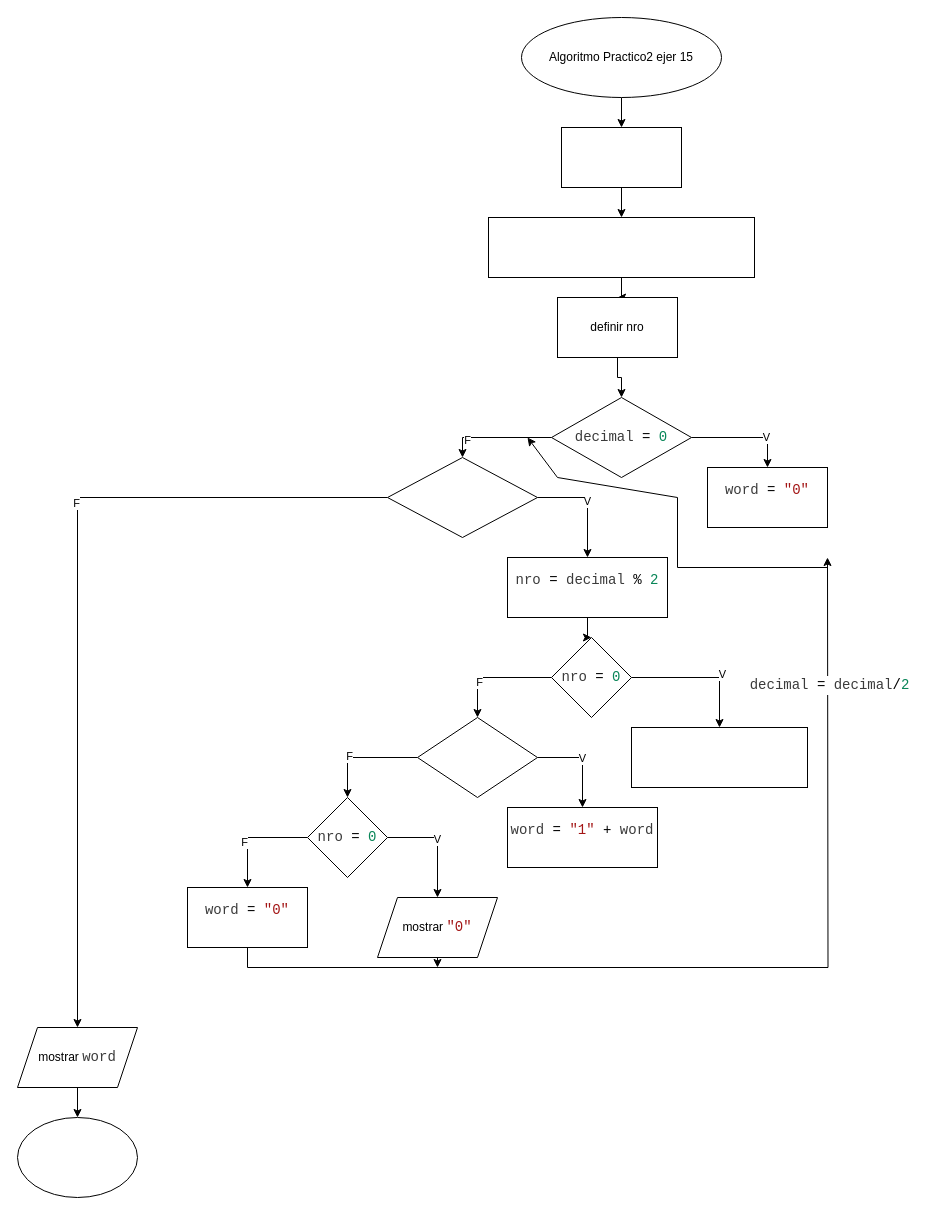
This 927x1215 diagram has some shape labels left out. The shapes that lost their labels are listed below. From the top down, each one's centre as x and y in pixels, then its label:
(621,157): entrada decimal
(621,247): definir string word = ""
(462,497): decimal != 0
(477,757): nro = 1
(719,757): word = "0" + word
(77,1157): FinAlgoritmo
